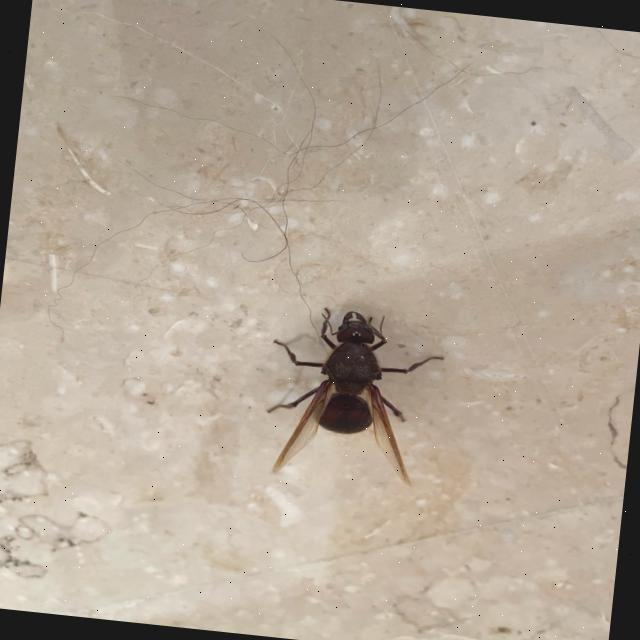Alive-Female-Alate: (259, 302, 449, 489)
